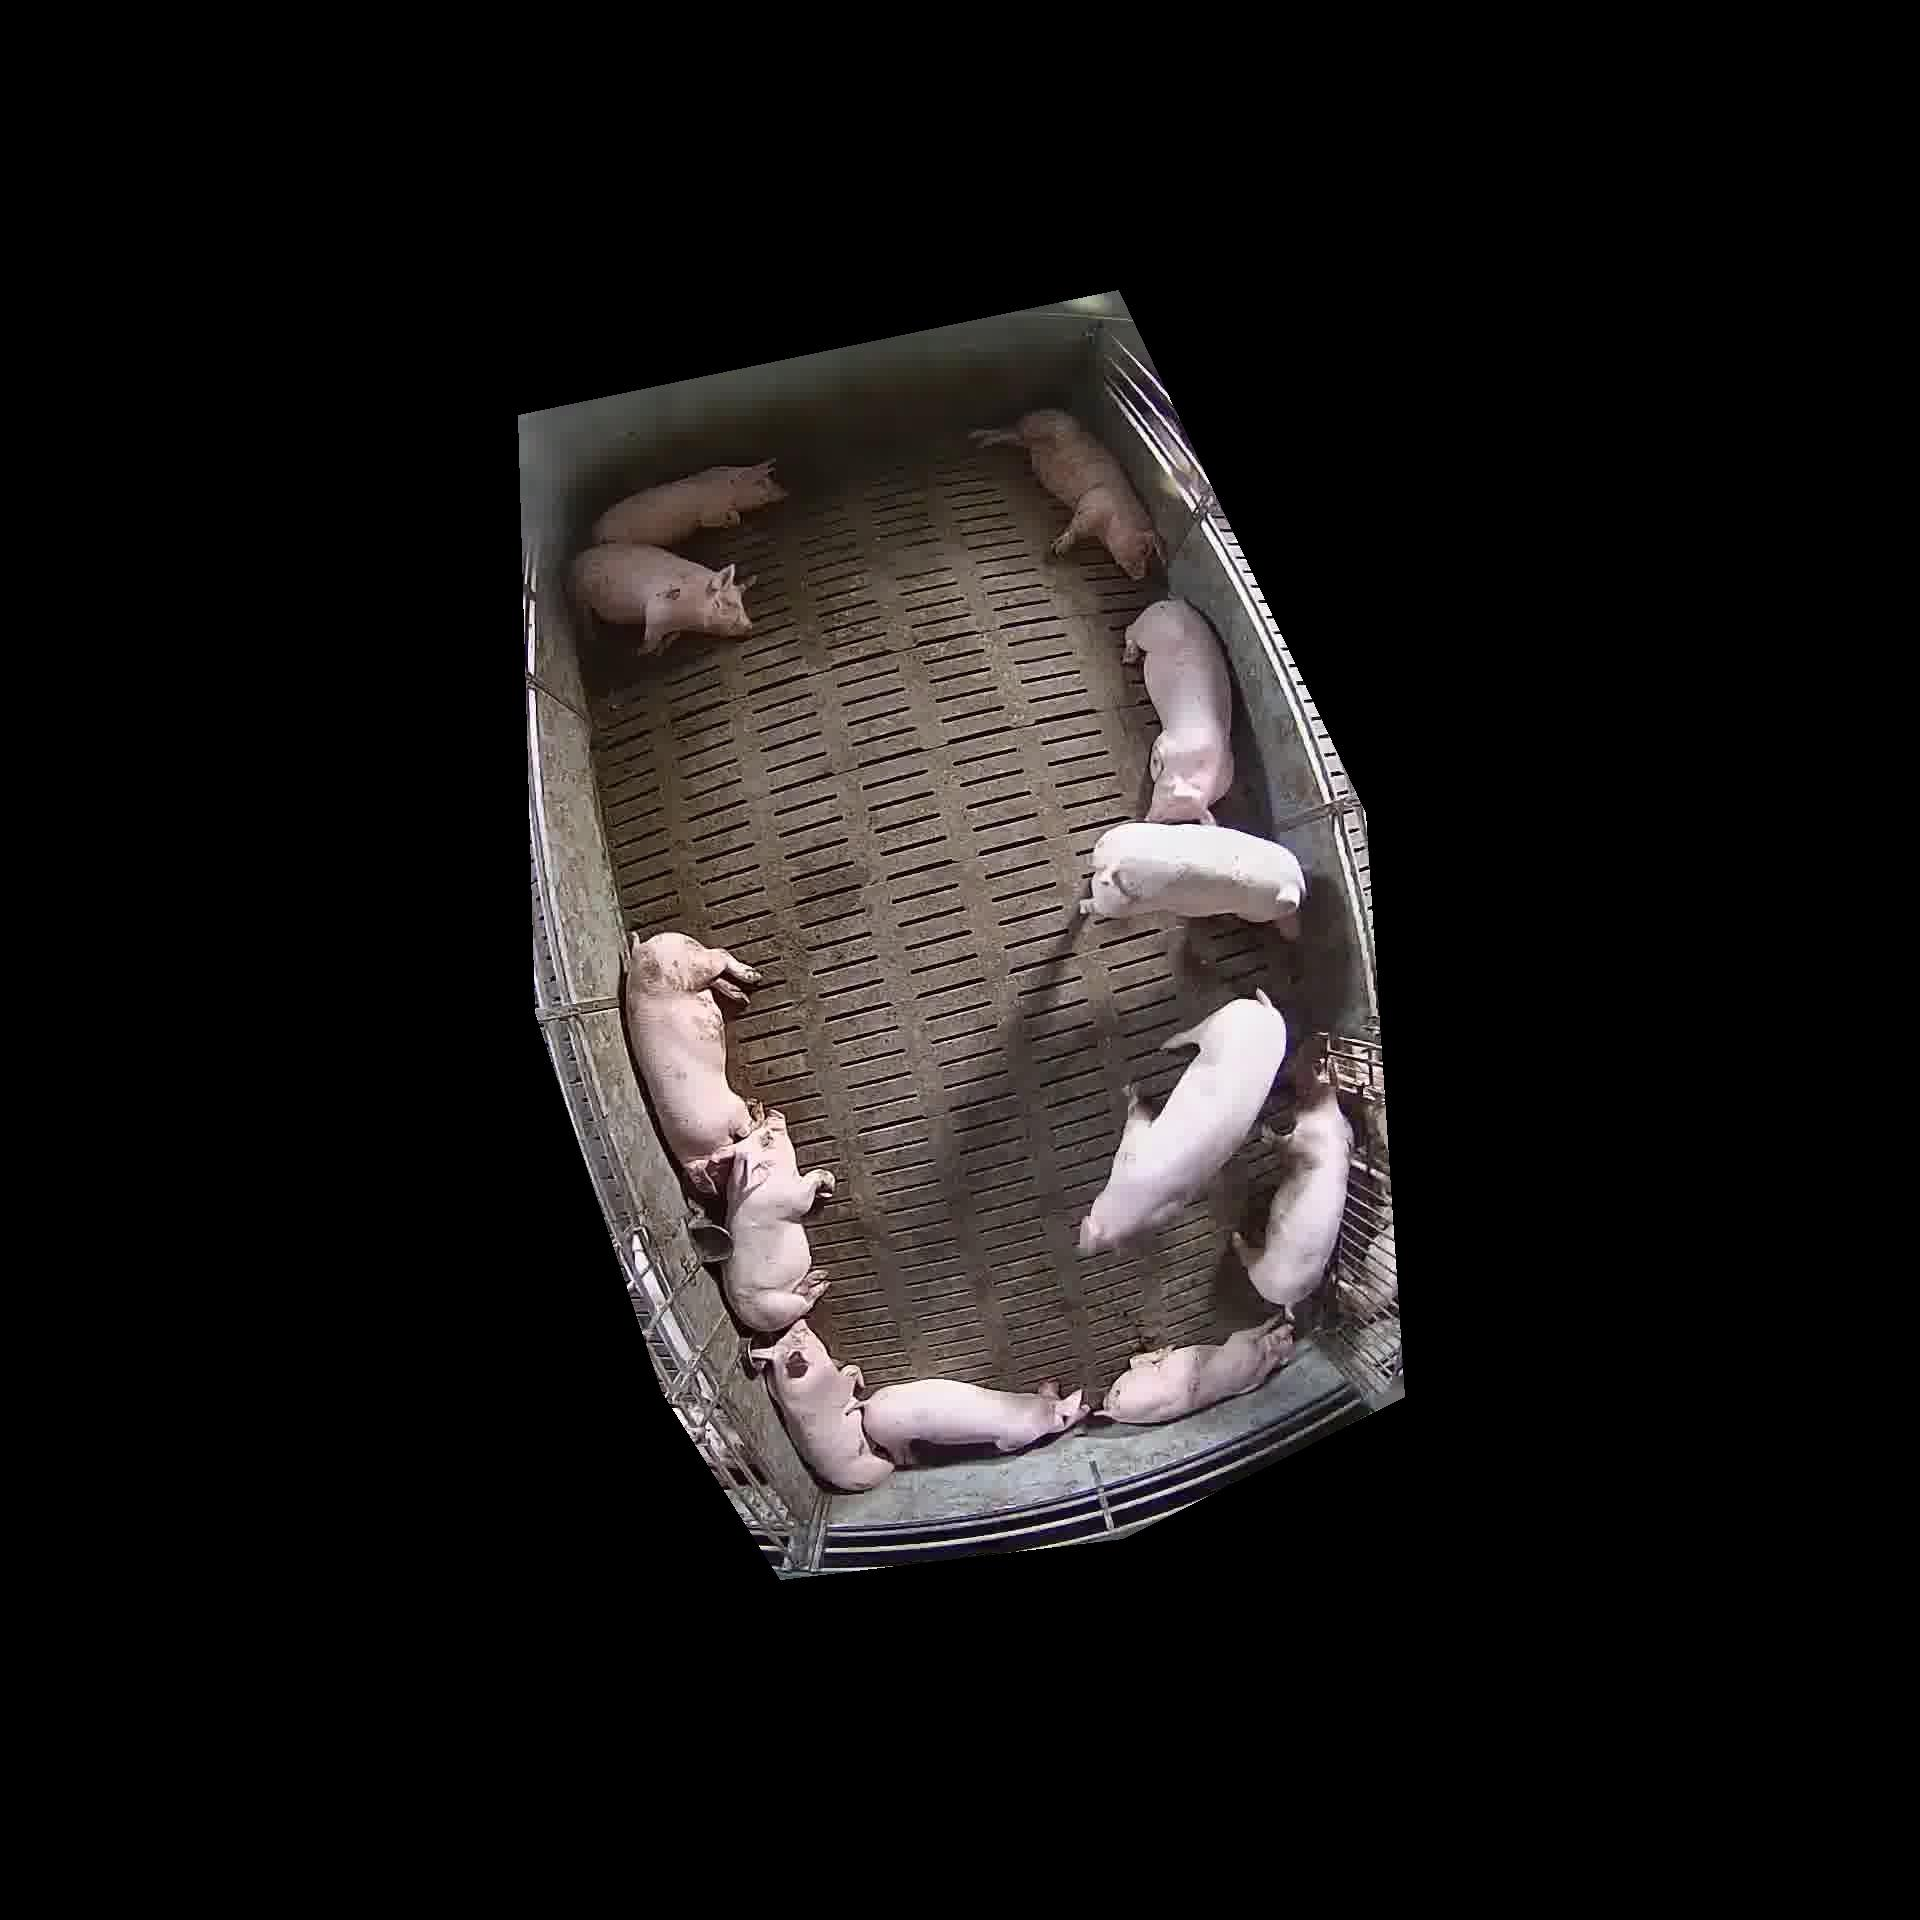pig: (1078, 992, 1285, 1254), (624, 932, 758, 1194), (971, 410, 1160, 578), (1233, 1060, 1352, 1306), (1080, 823, 1305, 935), (723, 1111, 833, 1333), (1124, 600, 1233, 825), (751, 1320, 893, 1491), (1101, 1320, 1294, 1422), (571, 543, 751, 652), (863, 1378, 1088, 1465), (593, 461, 784, 547)
